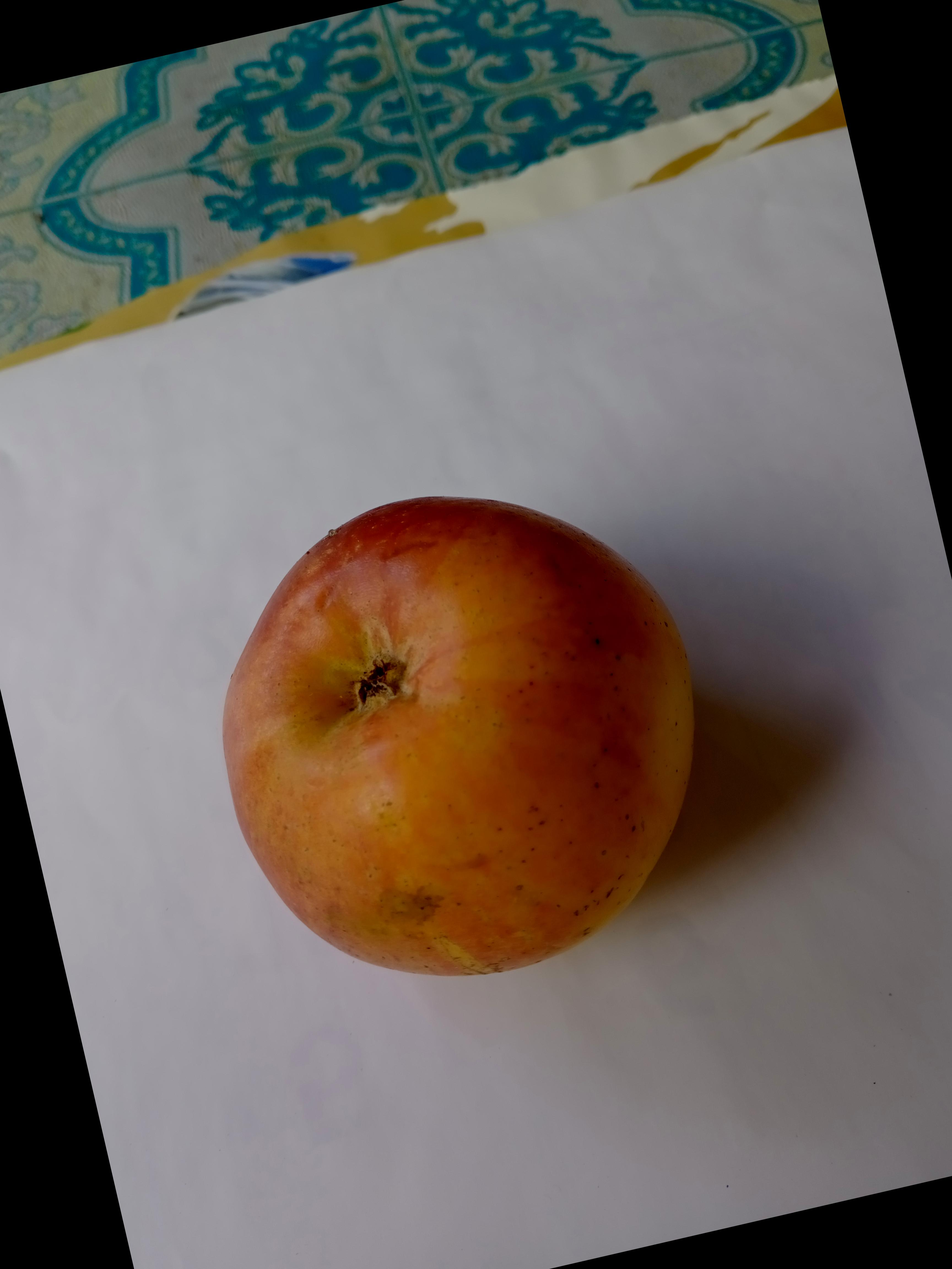Apple Ripe: (0, 576, 617, 1227)
